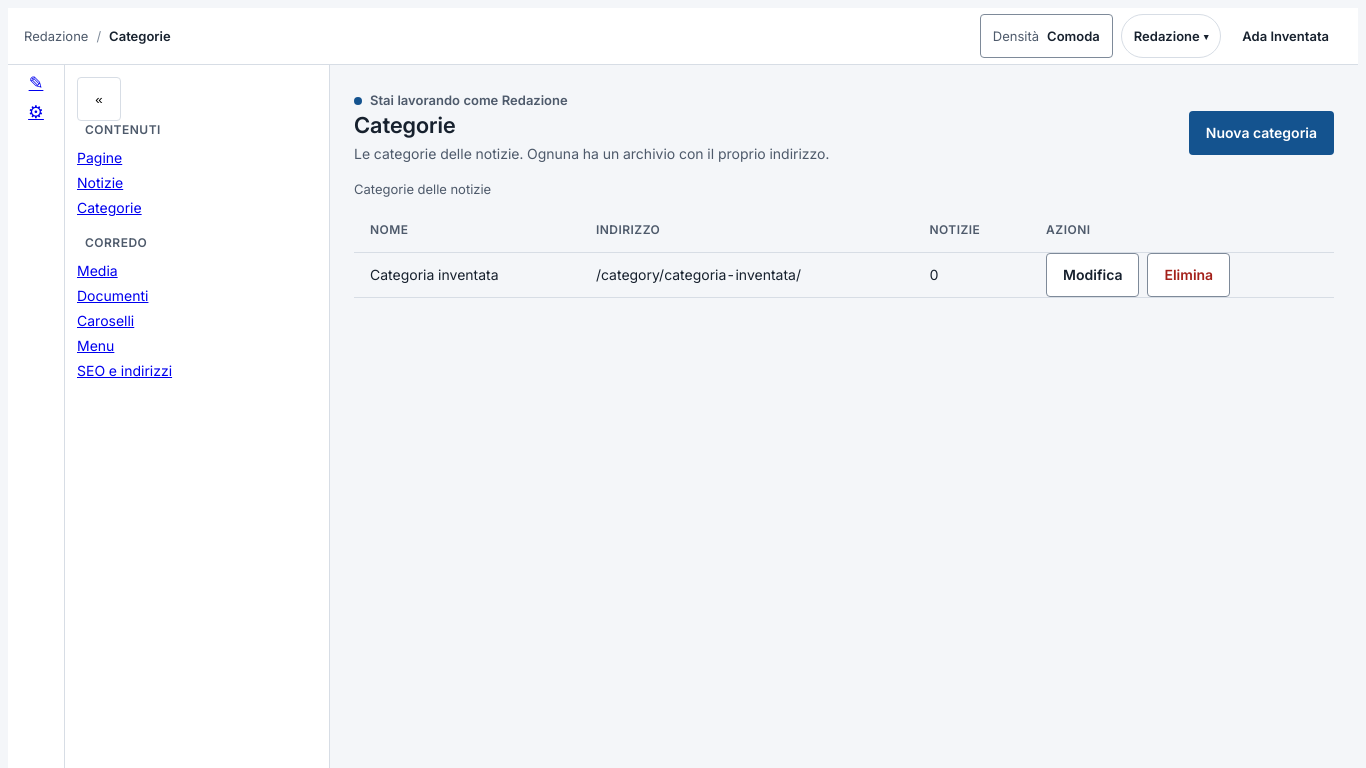
Test case: W8-23: Categorie › crea: «Categoria creata.»
Expected: the text "Categoria inventata" is shown, [354,252,580,297]
Click the button "Nuova categoria": (1261, 133) [1189,111,1334,155]
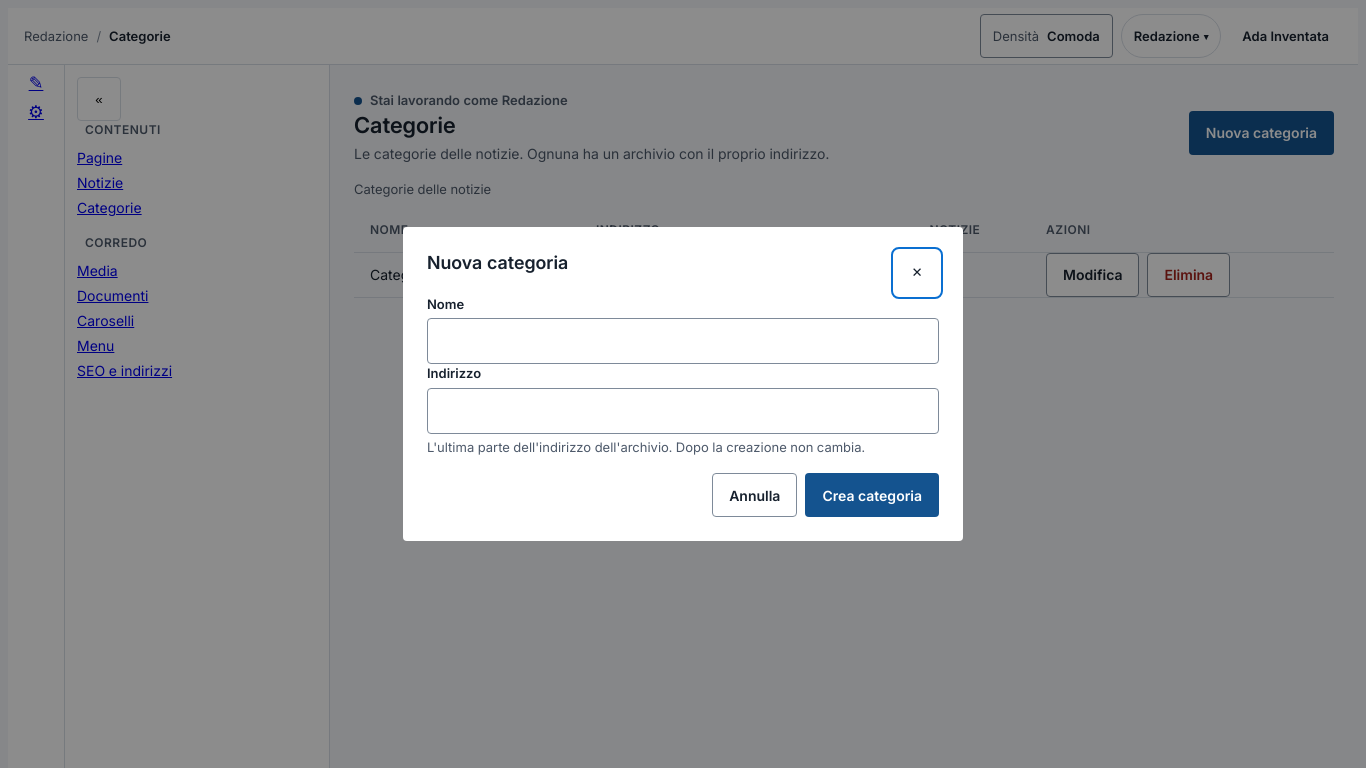
In the field labelled "Nome": (683, 341) [427,318,939,364], type "Nuova inventata"
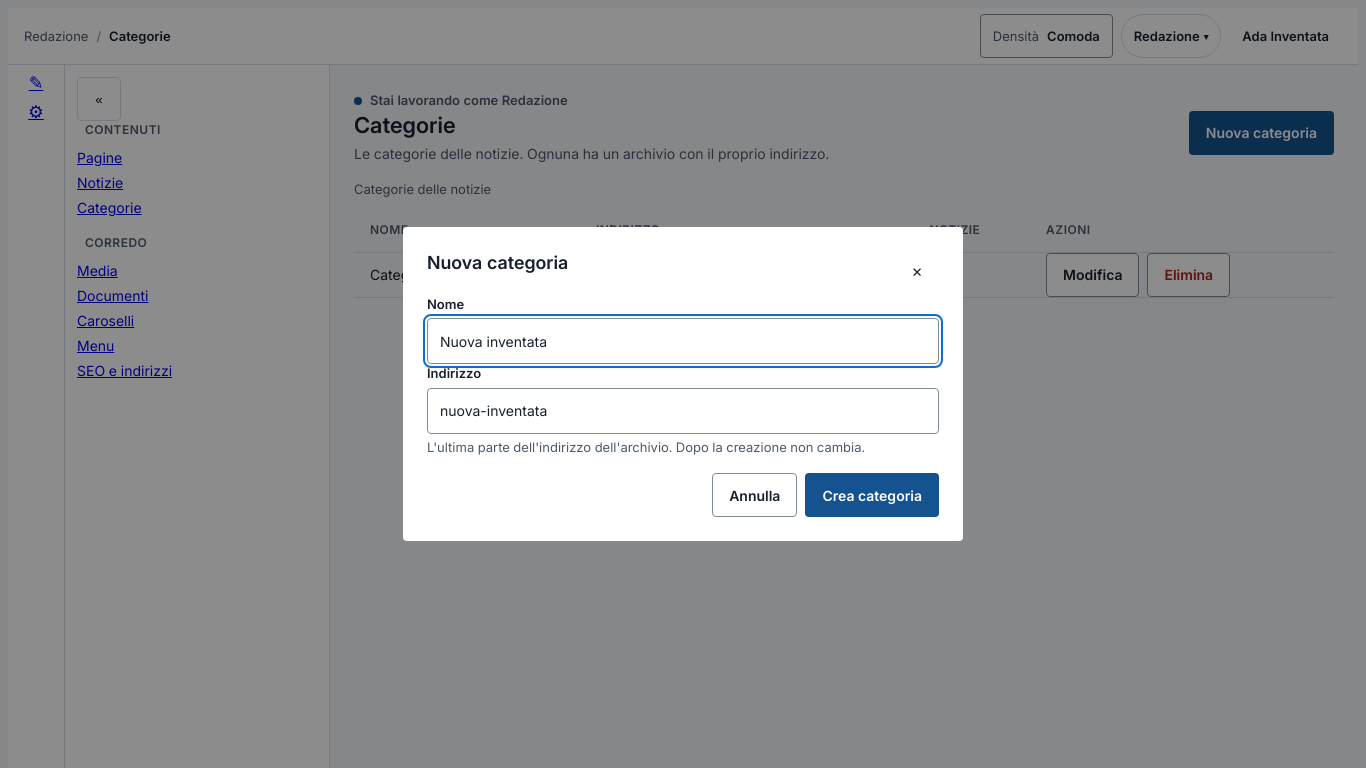
Click the button "Crea categoria": (872, 495) [805,473,939,517]
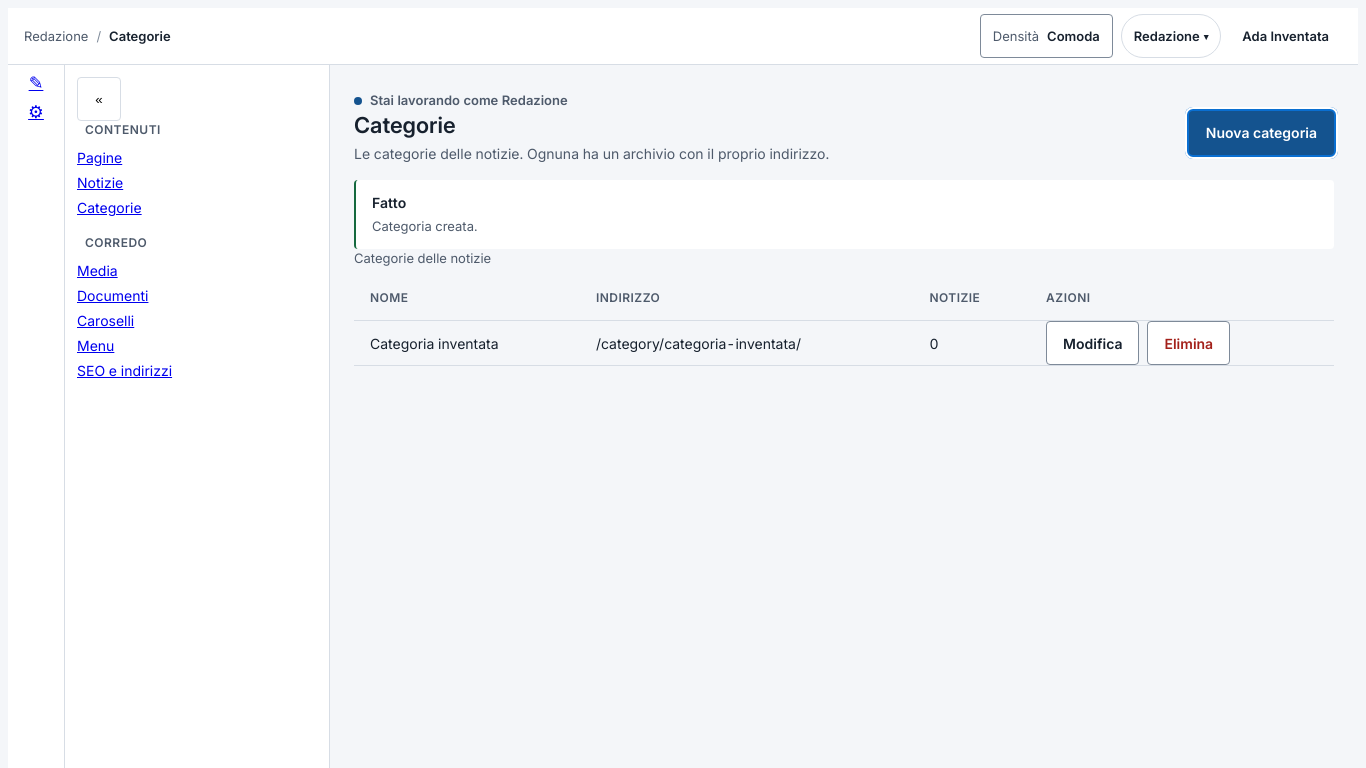
Now the text "Categoria creata." is shown, box [372,218,478,234]
Now the text "Fatto" is shown, box [372,194,406,211]
